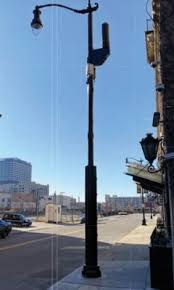light_pole: (81, 5, 107, 280)
